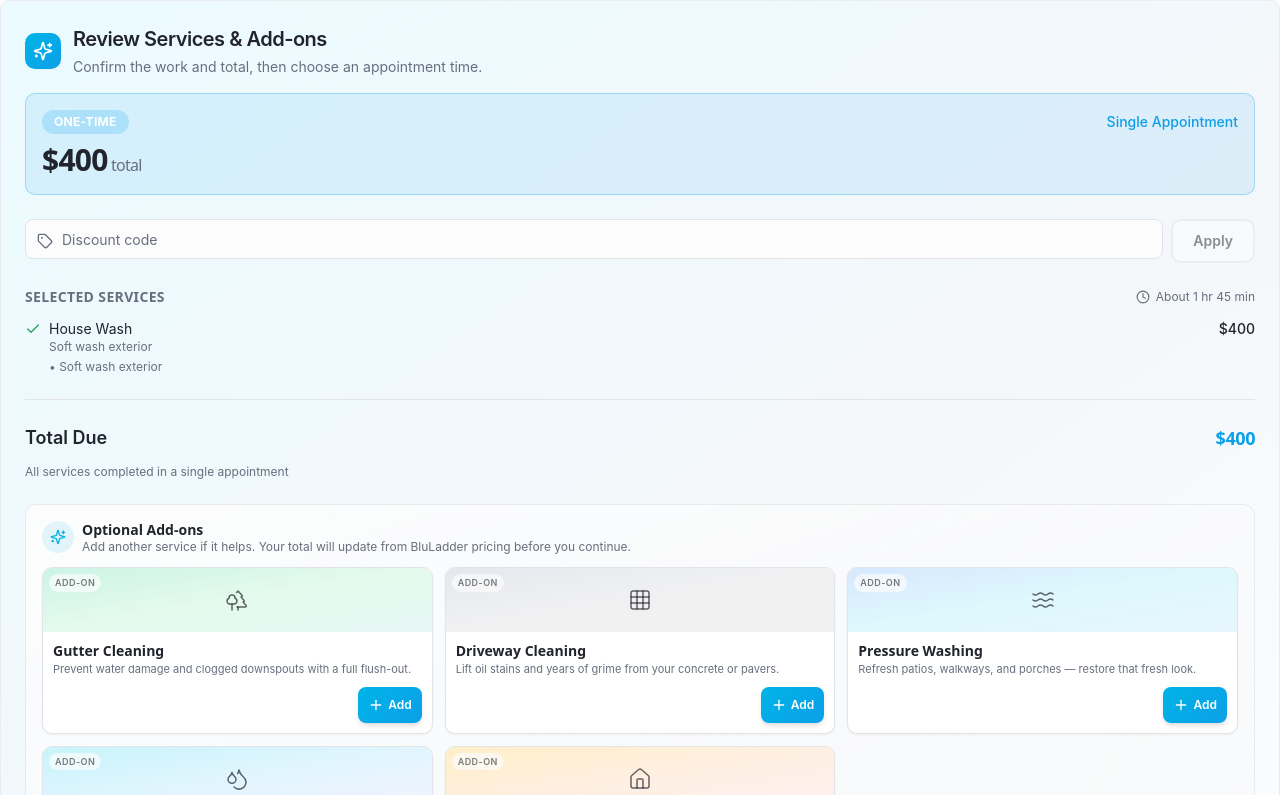
Scenario: Phase 1B-B quote-to-scheduling flow › reprices an added service authoritatively without resetting the primary service
expect the list item "Gutter Cleaning" is shown: met, box [53,641,164,660]
Click the button "Add" below "Gutter Cleaning" at (390, 705), box [358,687,422,723]
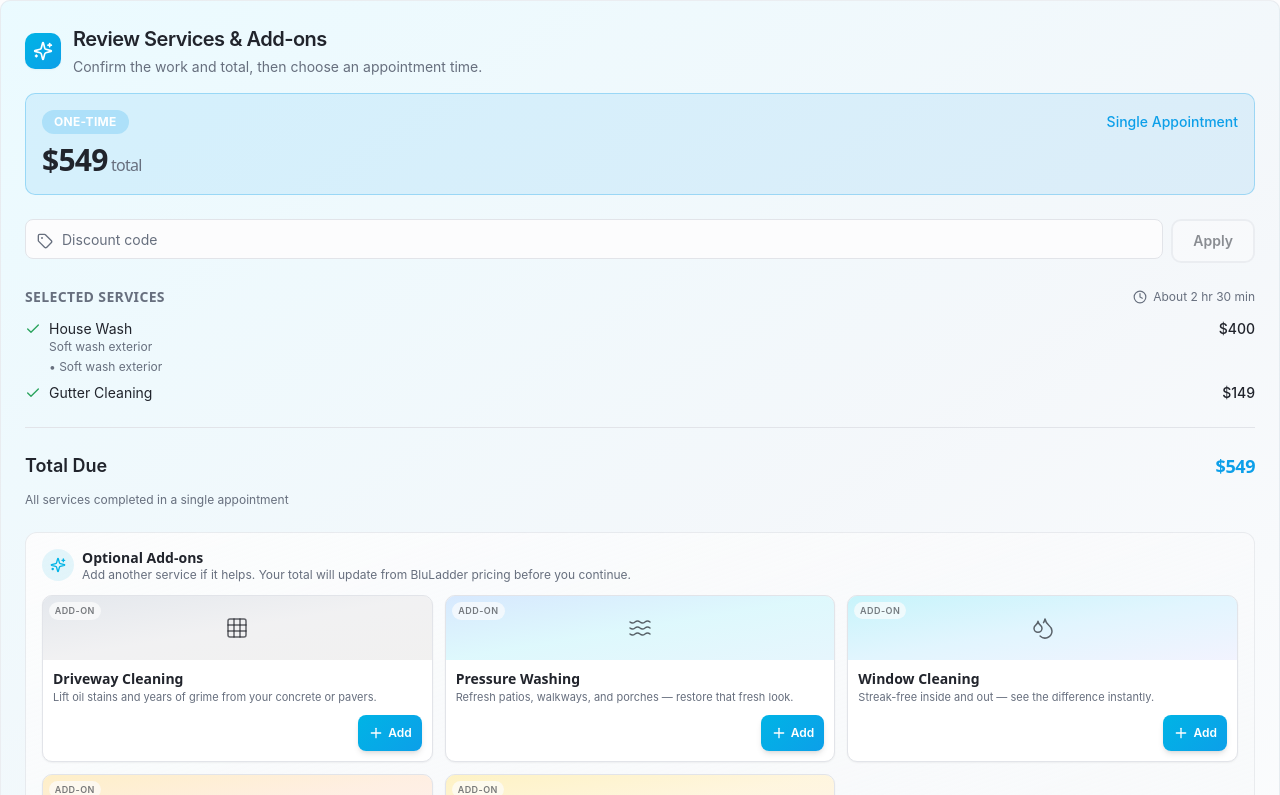
expect the text "House Wash" is shown: met, box [49,320,132,337]
expect the element with test id "authoritative-duration" reads "About 2 hr 30 min": met, box [1133,289,1255,305]
